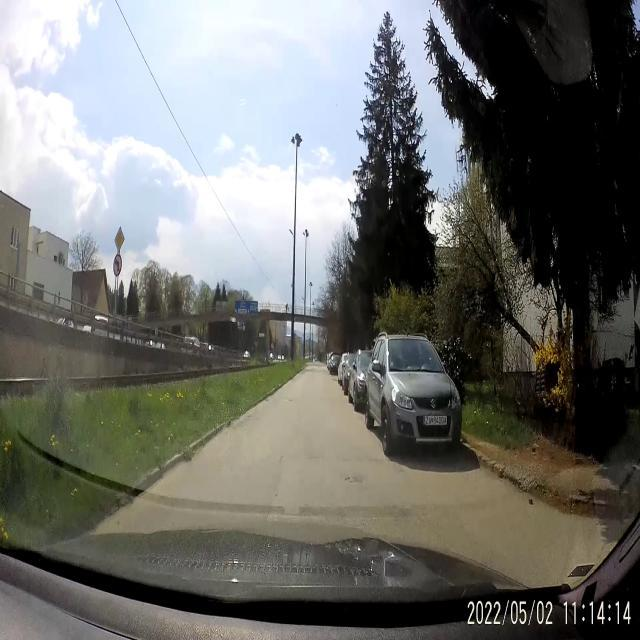Pothole: (339, 468, 366, 492)
